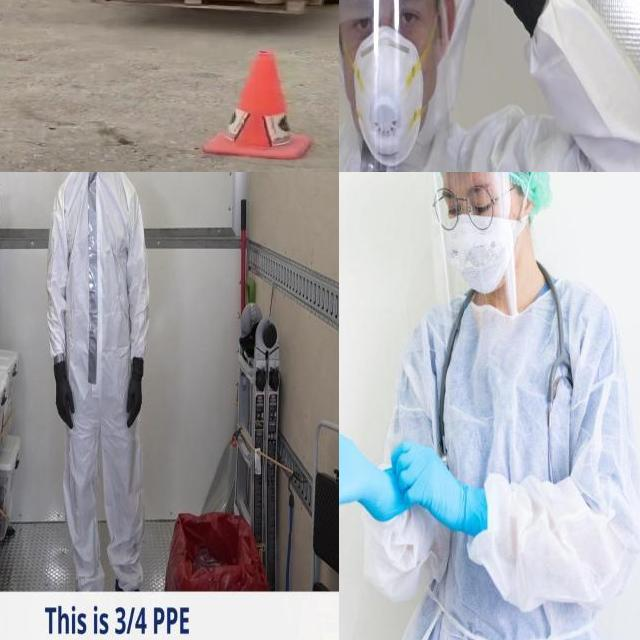Glove: (390, 439, 490, 536), (339, 416, 393, 521), (52, 364, 76, 431), (126, 358, 144, 430)
MASK: (355, 29, 424, 168), (442, 212, 522, 296)
